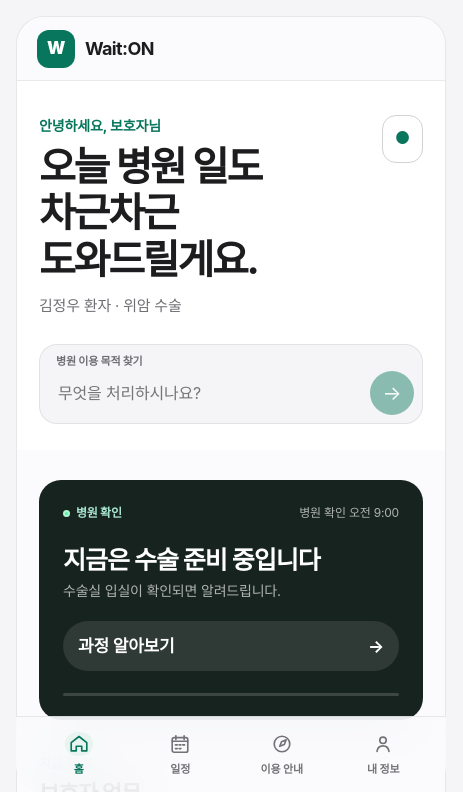
CaregiverJourneyApp › 이용 안내에서 목적 선택과 전체 층 안내를 구분한다
The image size is (463, 792).
Click the button "이용 안내": (282, 754) [233,725,330,784]
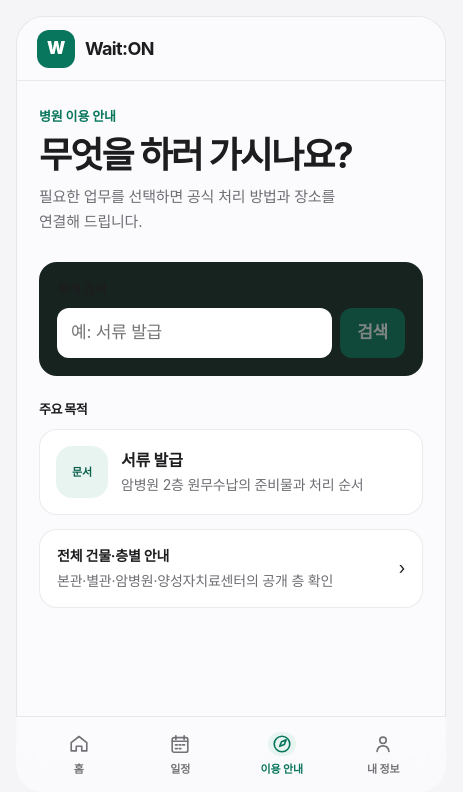
Check: the heading "무엇을 하러 가시나요?" is shown, box [39,134,352,175]
Check: the button "문서 서류 발급 암병원 2층 원무수납의 준비물과 처리 순서" is shown, box [39,429,423,515]
Check: the button "전체 건물·층별 안내 본관·별관·암병원·양성자치료센터의 공개 층 확인 ›" is shown, box [39,529,423,608]
